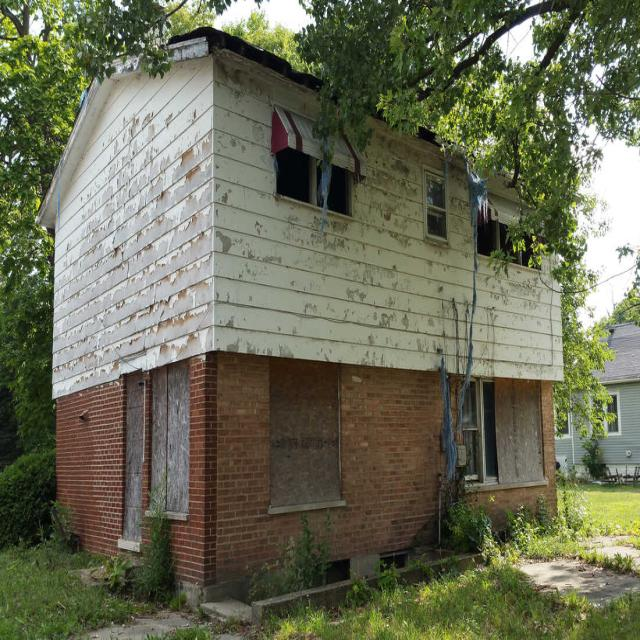House: (38, 20, 567, 628)
